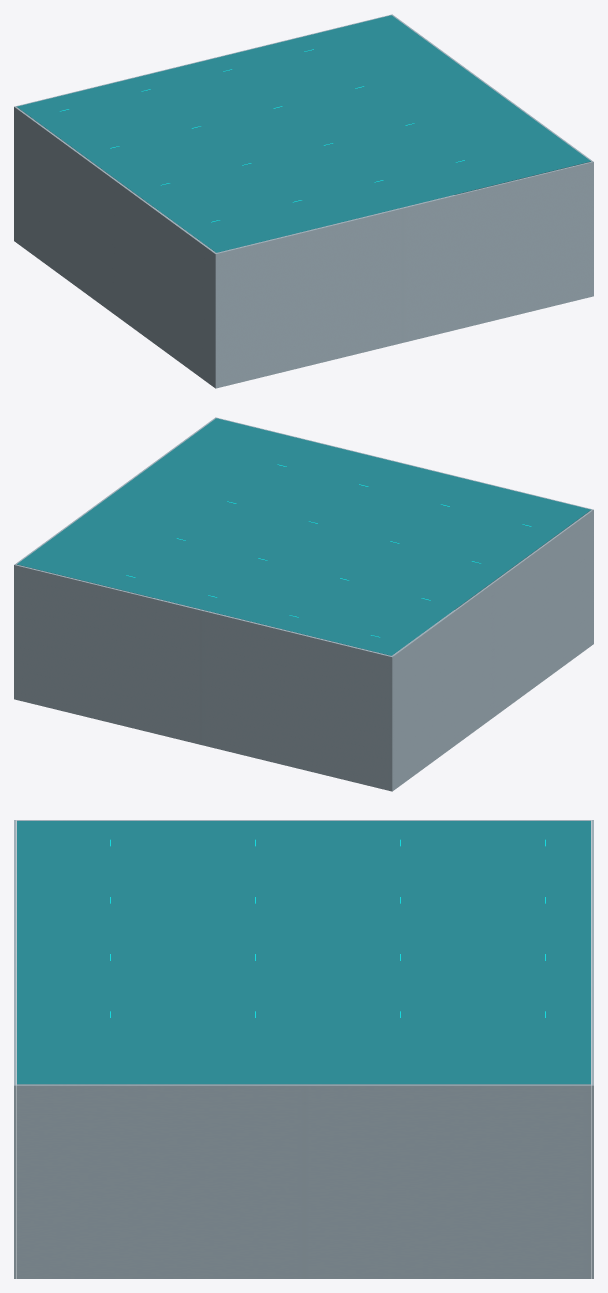
File: tt_pool_diving_tank.glb
The picture shows the model from 3 angles, top to bottom: view 1: azimuth 30°, elevation 25°; view 2: azimuth 150°, elevation 25°; view 3: azimuth 270°, elevation 25°; orthographic projection. The views are drawn at different scales.
Parts seen in each view (by area): view 1: Water_Opaque, Tank_Sides, Tank_Ends; view 2: Water_Opaque, Tank_Sides, Tank_Ends; view 3: Water_Opaque, Tank_Ends, Tank_Sides.
Part boxes in pixels (x1=…): Water_Opaque: x1=17, y1=15, x2=590, y2=252; Tank_Sides: x1=14, y1=14, x2=593, y2=388; Tank_Ends: x1=15, y1=15, x2=592, y2=387; Water_Opaque: x1=17, y1=418, x2=590, y2=655; Tank_Sides: x1=14, y1=417, x2=593, y2=791; Tank_Ends: x1=15, y1=418, x2=592, y2=790; Water_Opaque: x1=17, y1=821, x2=590, y2=1084; Tank_Ends: x1=17, y1=820, x2=590, y2=1278; Tank_Sides: x1=14, y1=820, x2=593, y2=1278.
Size of what is drawn, in the model's own units: 12.99 by 4.43 by 11.99.
3 materials, 1 textured.
